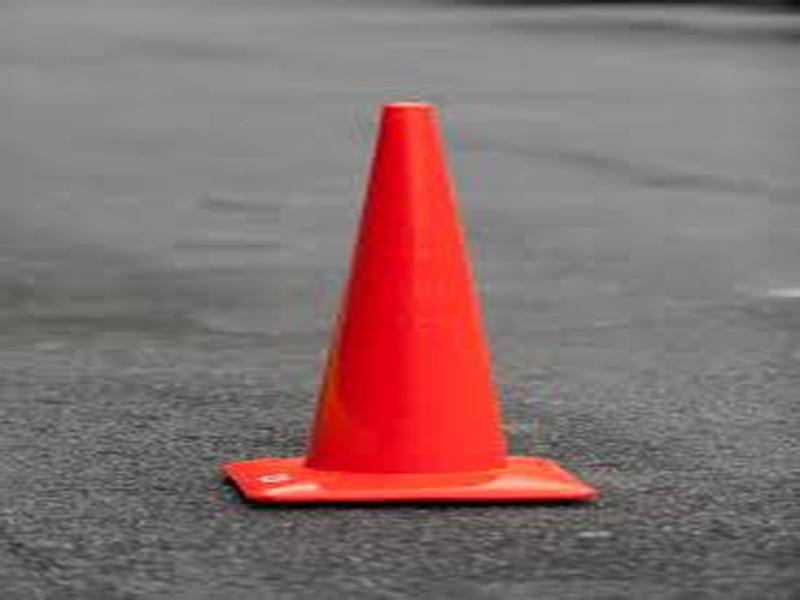Cone1: (214, 102, 601, 507)
